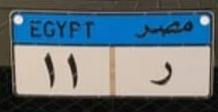1: (42, 49, 59, 89), (64, 50, 81, 87)
raa: (147, 57, 174, 90)
